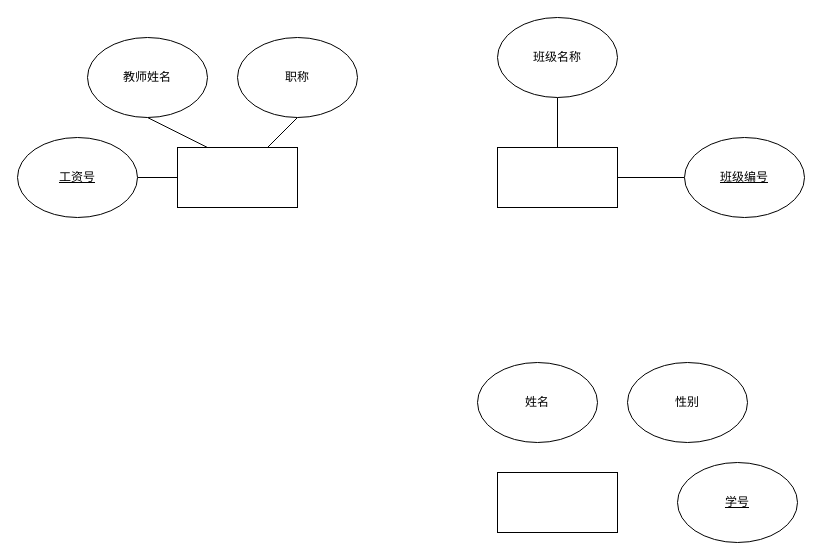
Some shapes in this 822 by 560 pixel diagram are drawn without their labels. The shapes that lost their labels are listed below. From the top down, each one's centre as x and y in pixels, then its label:
point 237,177: 教师
point 557,177: 班级
point 557,502: 学生
